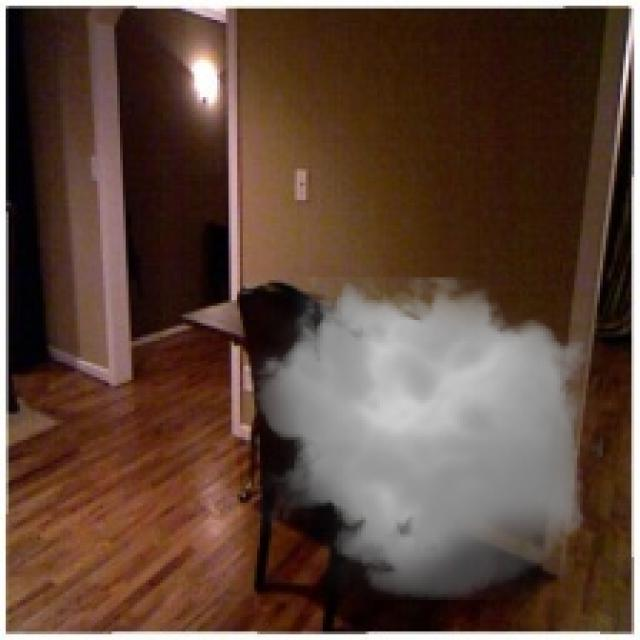smoke: (243, 263, 603, 611)
